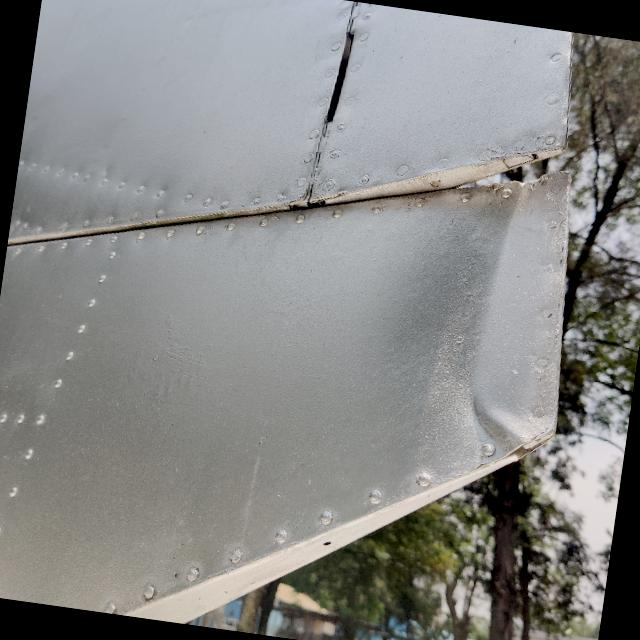dent: (450, 372, 542, 464)
